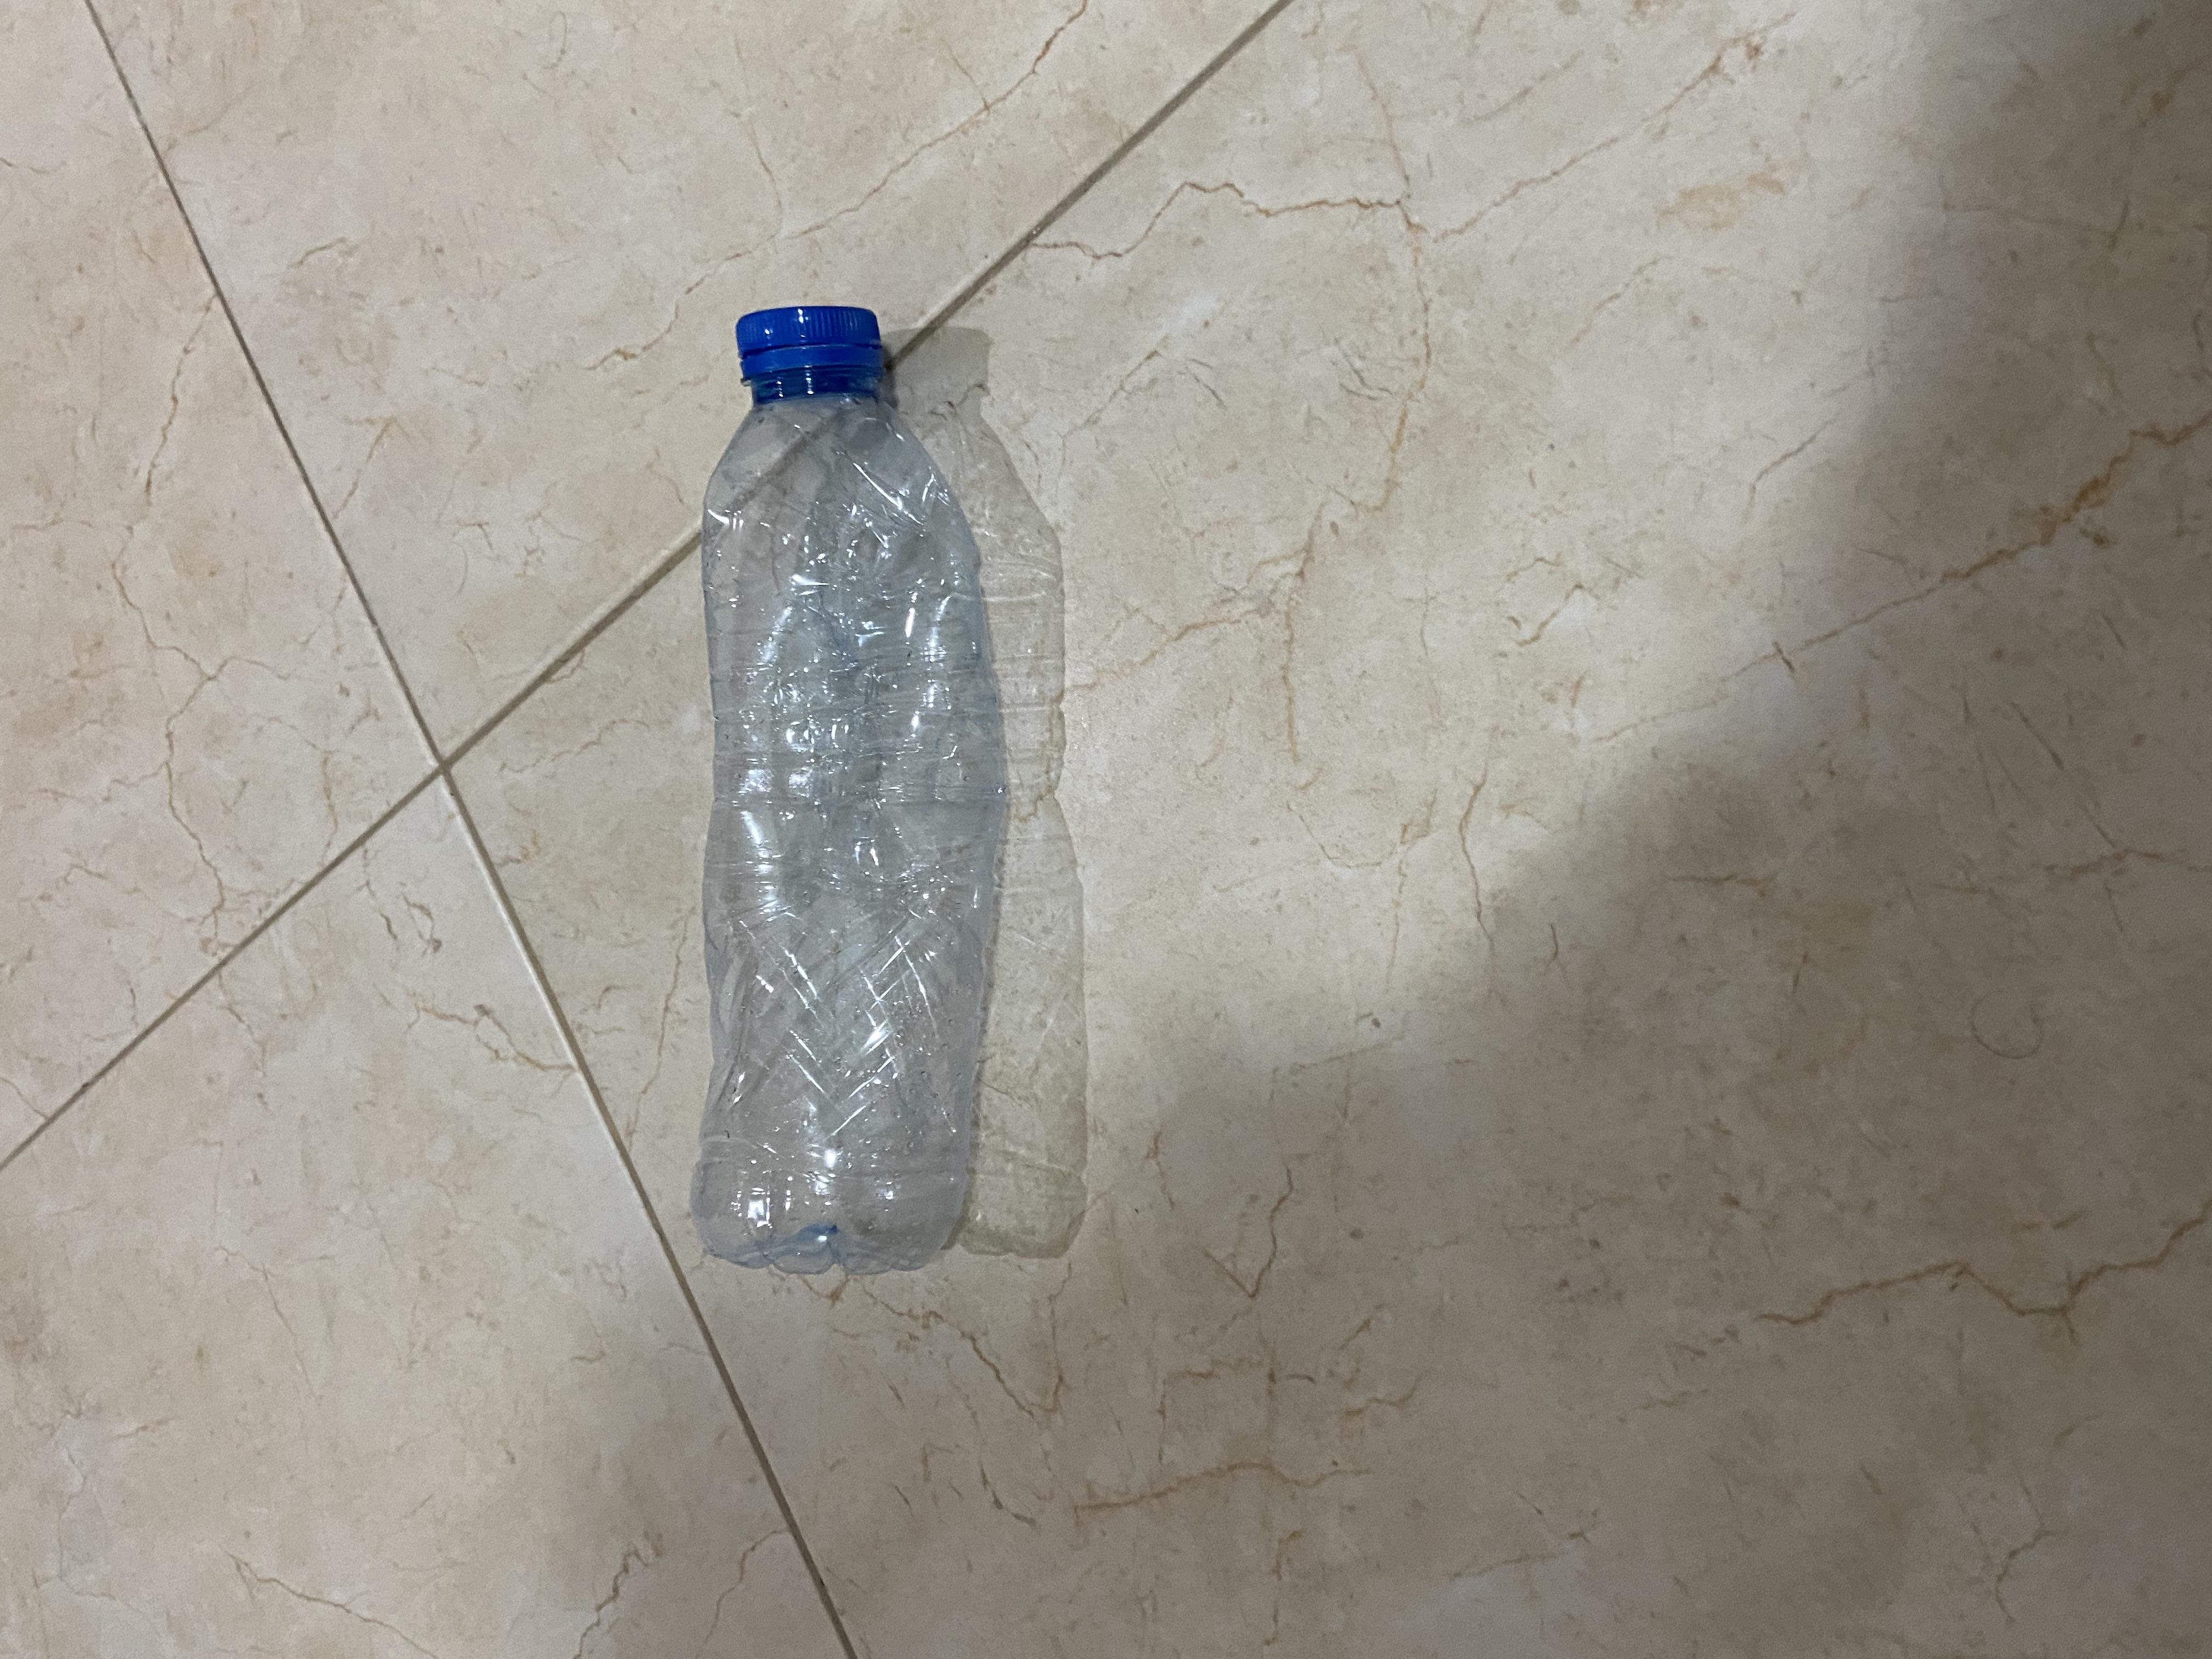bottle: (465, 462, 1846, 756)
